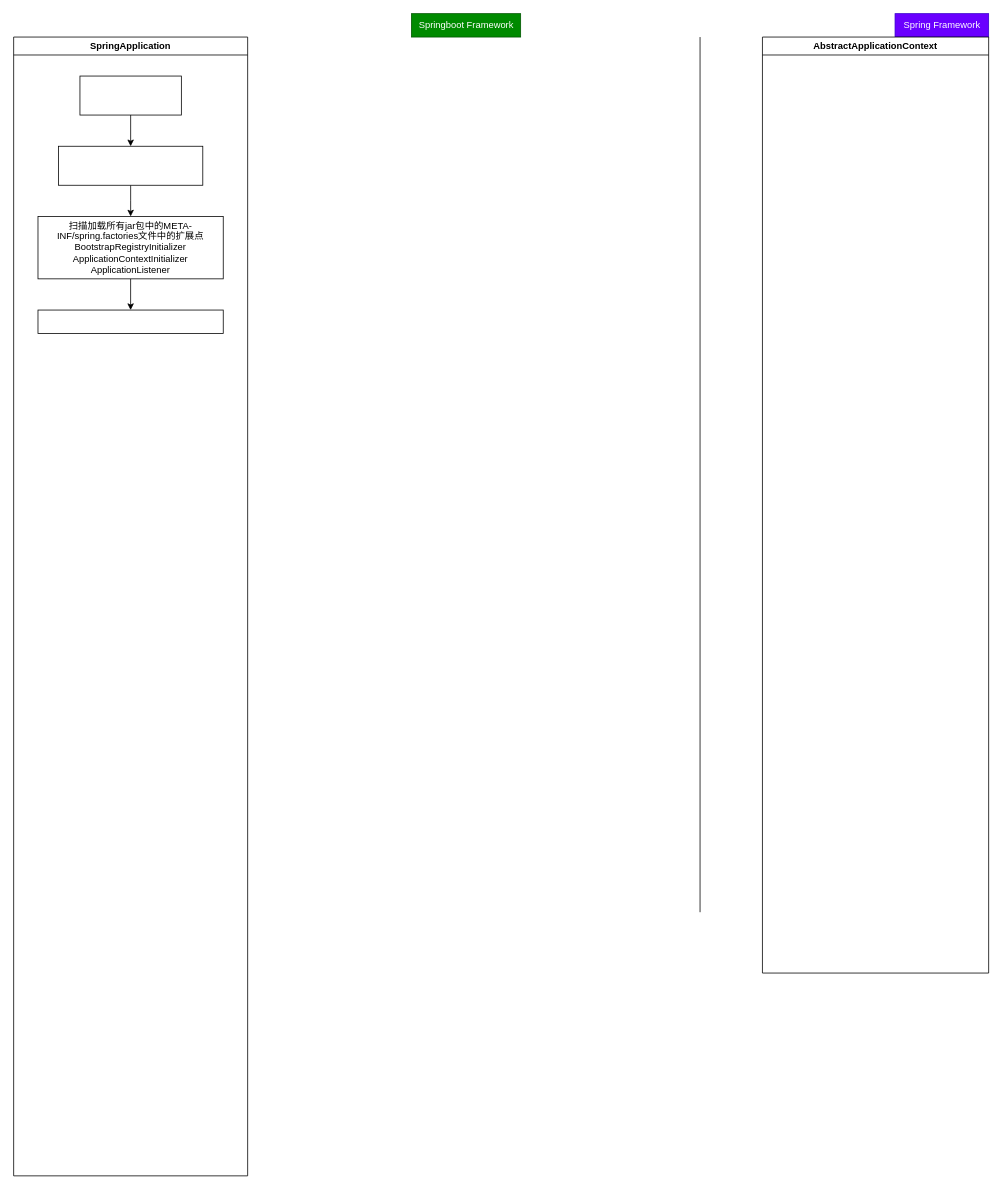
This 1002x1190 diagram has some shape labels left out. The shapes that lost their labels are listed below. From the top down, each one's centre as x and y in pixels, then its label:
point (130, 95): 构建SpringApplication
point (130, 165): 识别WebApplicationType SERVLET / REACTIVE / NONE
point (130, 321): 识别主类 带main方法的类
